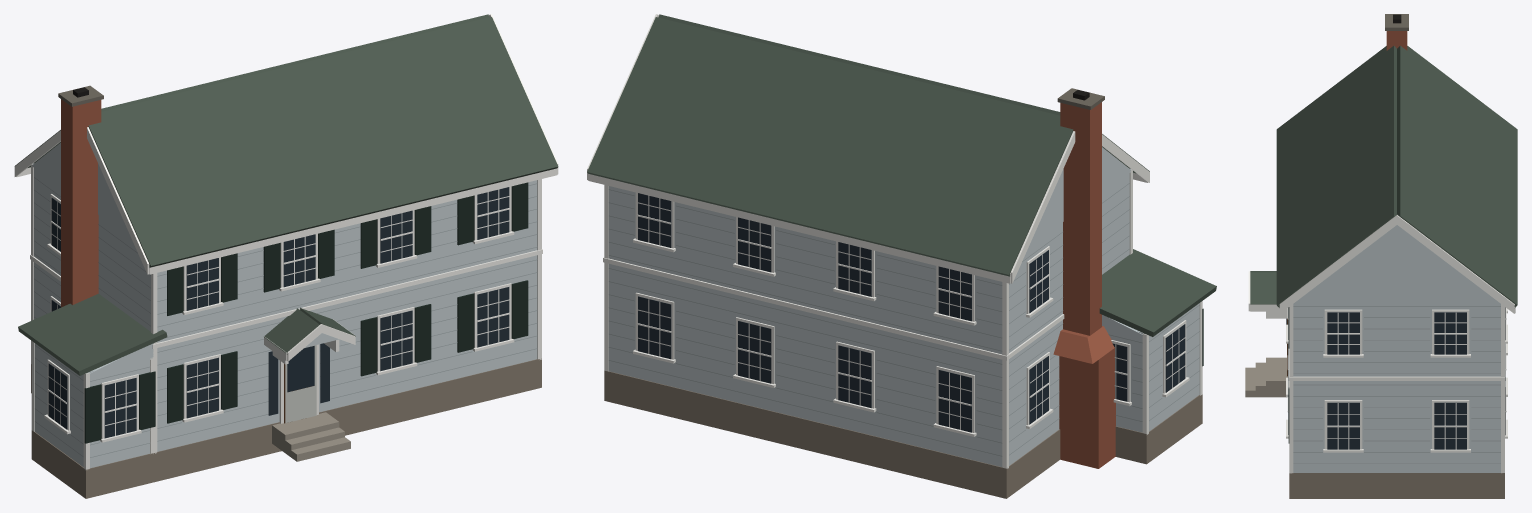
File: frame-colonial-revival-house-0002.glb
3 views of the same model, side by side, from view 1: azimuth 30°, elevation 25°; view 2: azimuth 150°, elevation 25°; view 3: azimuth 270°, elevation 25° (orthographic). The views are drawn at different scales.
Visible parts, largest first — view 1: kit-frame-colonial-revival-house-0002; view 2: kit-frame-colonial-revival-house-0002; view 3: kit-frame-colonial-revival-house-0002.
Part boxes in pixels (x1,y1,x2,y2): kit-frame-colonial-revival-house-0002: (14, 14, 558, 498); kit-frame-colonial-revival-house-0002: (587, 14, 1216, 498); kit-frame-colonial-revival-house-0002: (1245, 14, 1517, 498).
Size of the model in its own units: 14.18 by 9.94 by 7.93.
